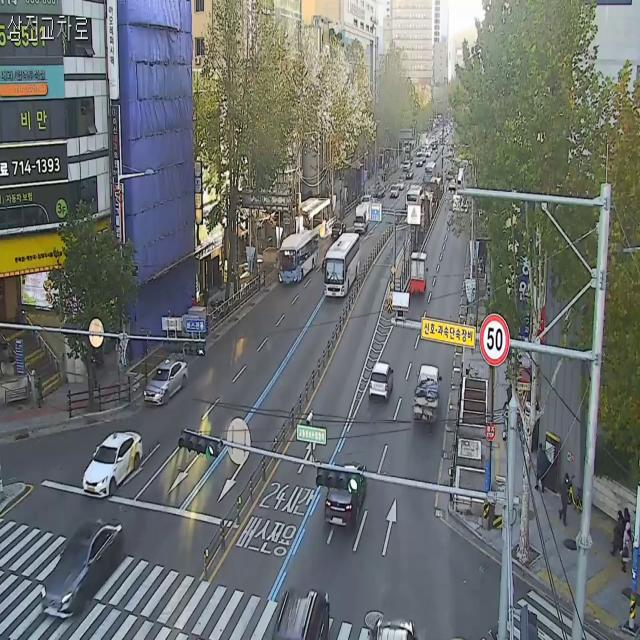car: (323, 226, 363, 302), (277, 228, 325, 284)
motorcycle: (38, 517, 125, 621), (82, 426, 144, 501), (325, 459, 367, 534), (142, 354, 189, 408), (368, 360, 396, 404)
truck: (411, 357, 442, 430), (410, 248, 430, 298), (353, 197, 375, 237)
